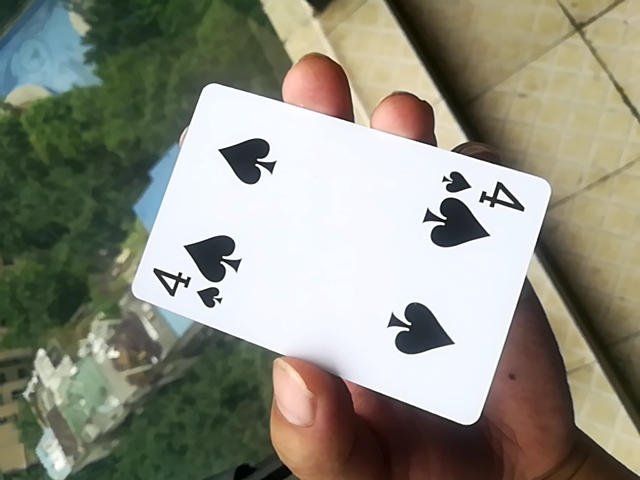ht 4: (130, 82, 555, 428)
